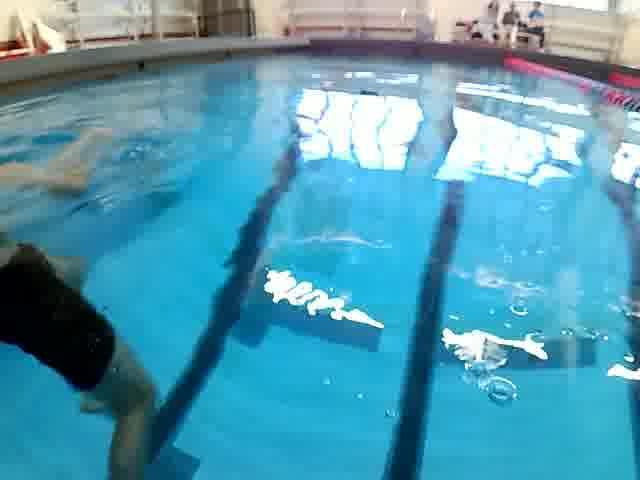CamMount: (354, 86, 382, 104)
